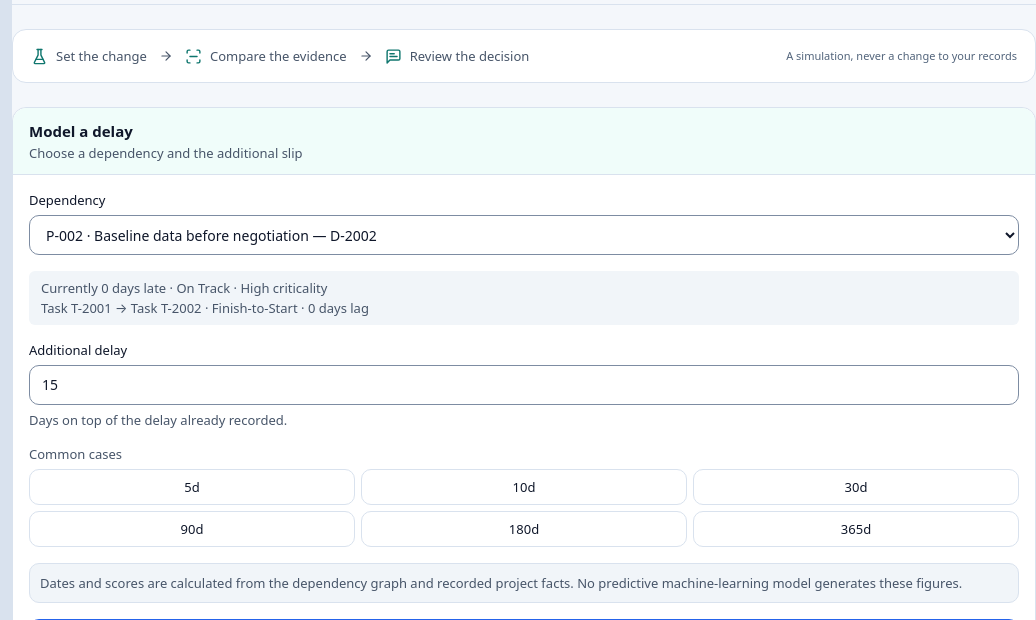
Test: ScenariosPage › leads with completion movement rather than a saturated score
The width and height of the screenshot is (1036, 620).
Clear the number field labelled "Additional delay". click: (524, 385)
box: x1=29 y1=365 x2=1019 y2=405
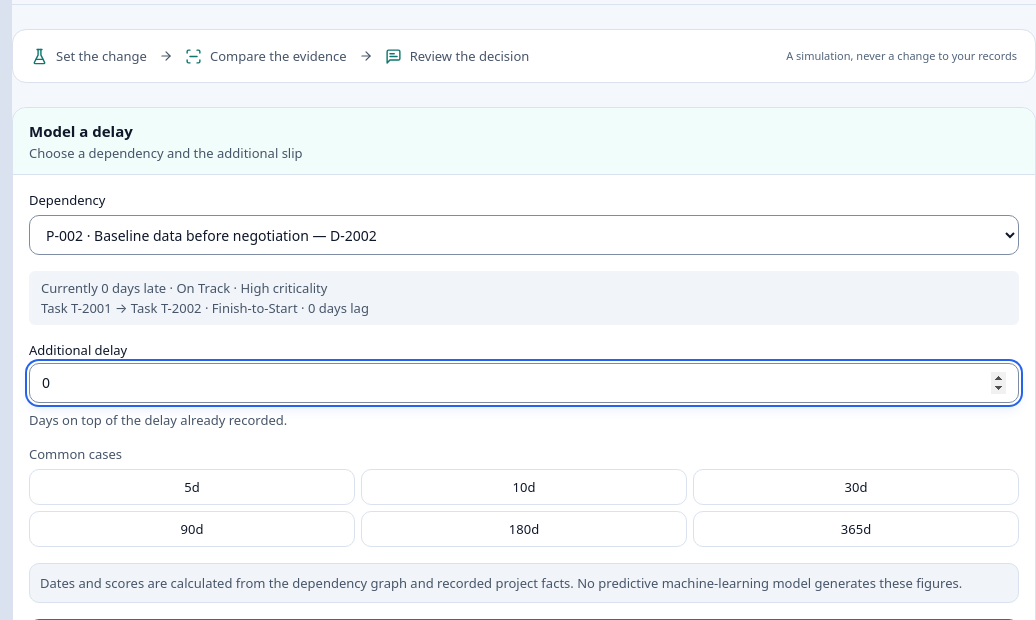
Type "90" into the number field labelled "Additional delay". click: (524, 383)
box: x1=29 y1=363 x2=1019 y2=403
(page scrolled)
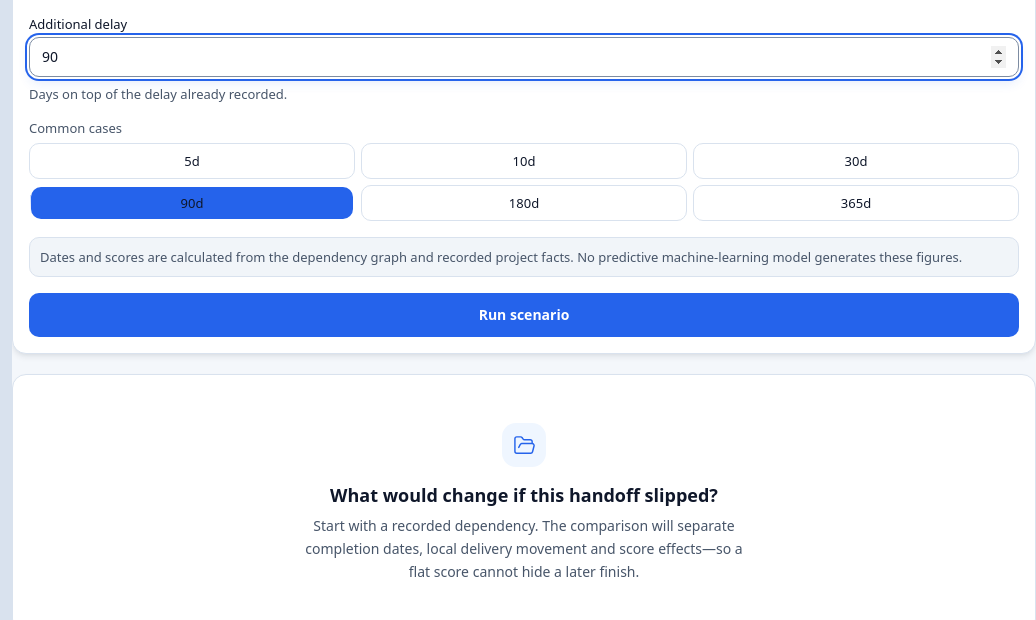
Click the button "Run scenario". click: (524, 315)
box: x1=29 y1=293 x2=1019 y2=337
(page scrolled)
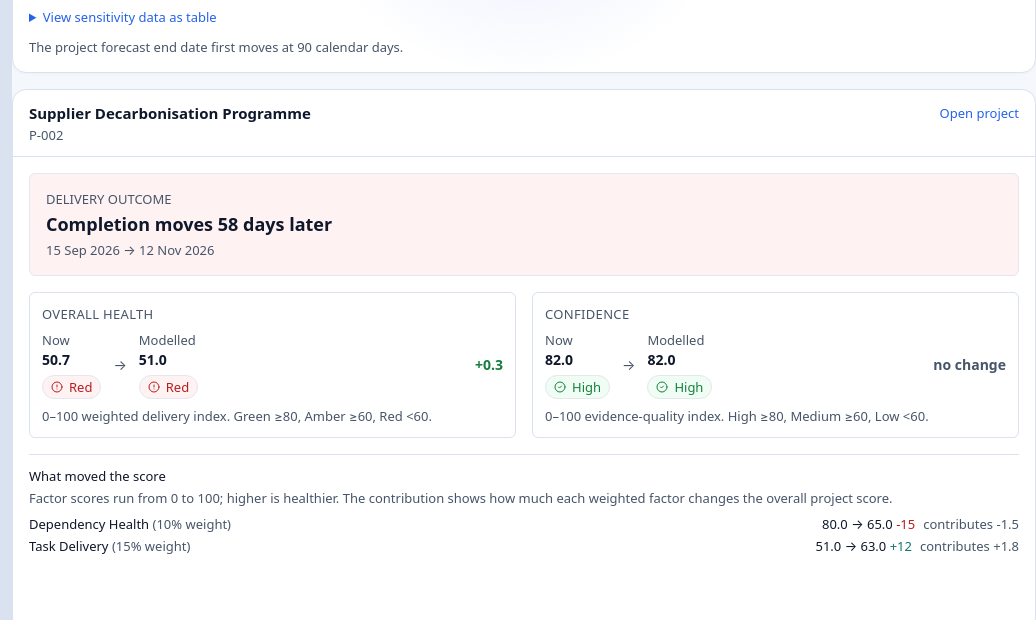
Result: the text "Completion moves 58 days later" is shown at x1=46 y1=212 x2=332 y2=236
Result: the text "15 Sep 2026 → 12 Nov 2026" is shown at x1=46 y1=240 x2=214 y2=258
